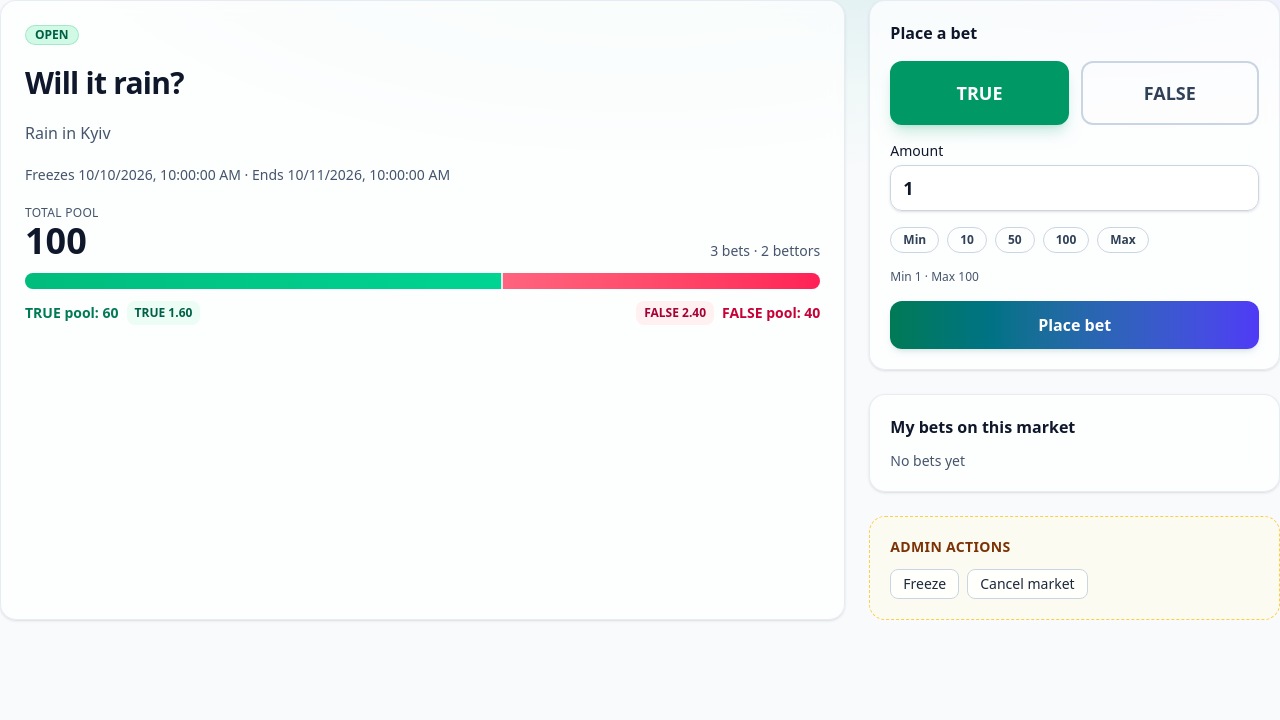
Test case: a failed admin action shows the error message
Click the button "Freeze": (925, 584) [890, 569, 959, 599]
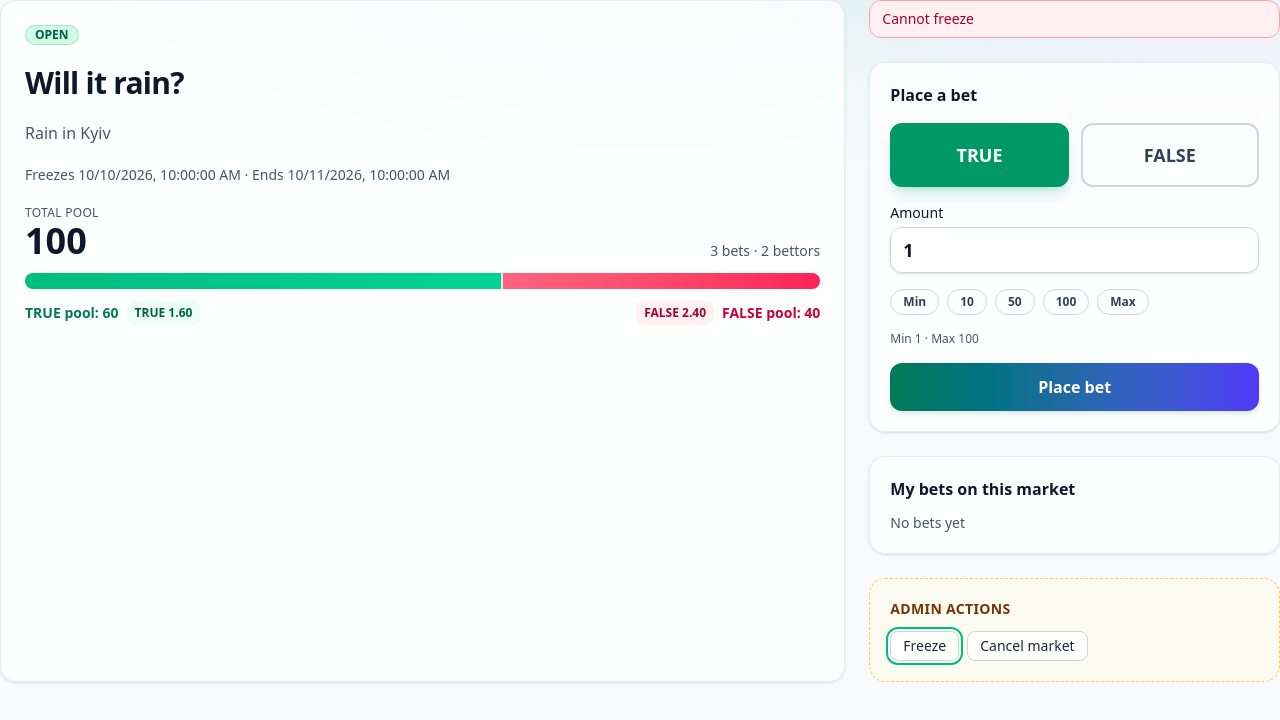
Expected: the message reads "Cannot freeze", [882, 9, 974, 28]
